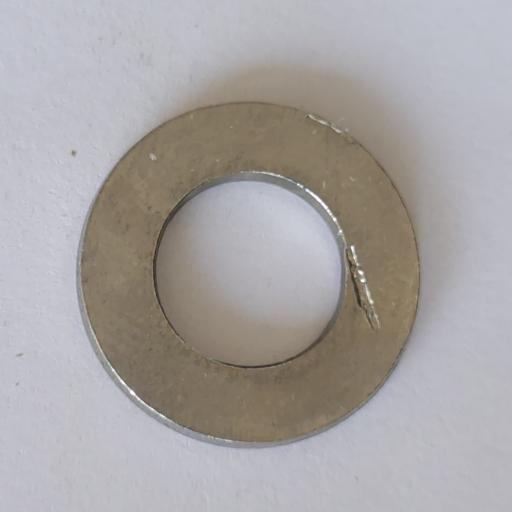scratch: (346, 245, 381, 333)
